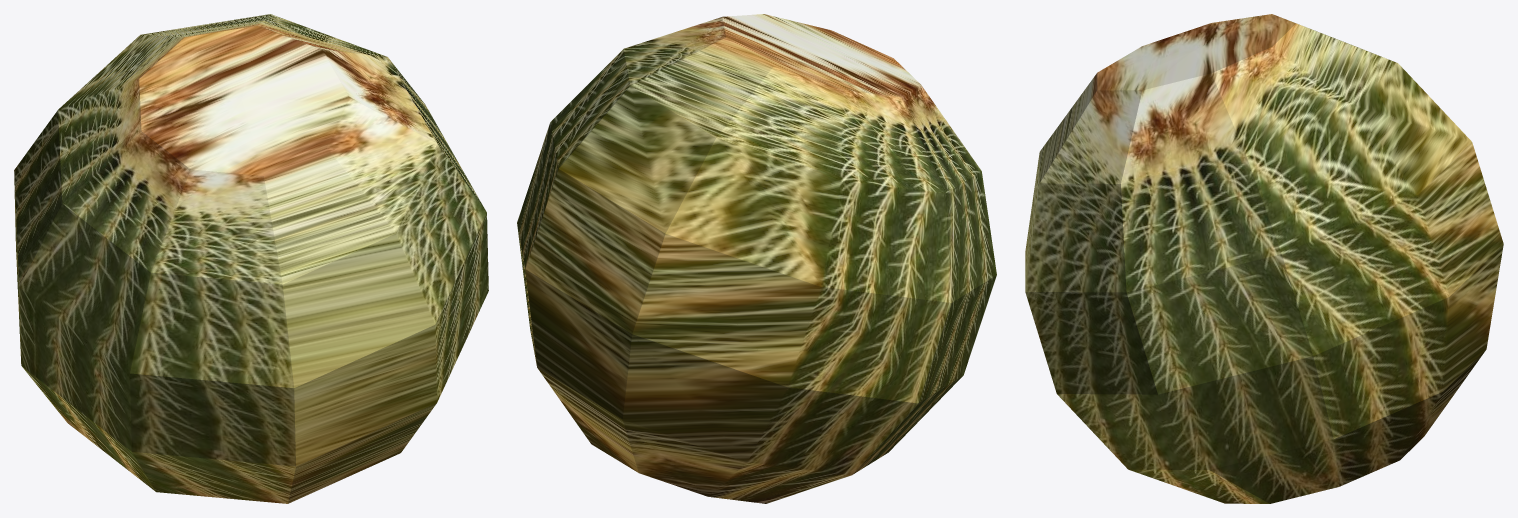
Rendered from round small plant.fbx.
The picture shows the model from 3 angles, left to right: view 1: azimuth 30°, elevation 25°; view 2: azimuth 150°, elevation 25°; view 3: azimuth 270°, elevation 25°; orthographic projection.
Parts seen in each view (by area): view 1: Sphere; view 2: Sphere; view 3: Sphere.
Boxes of the visible parts, x1,y1,x2,y2 form: Sphere: (14,14,488,503); Sphere: (517,14,996,503); Sphere: (1025,14,1503,503).
Size of the model in its own units: 206 by 208 by 203.
